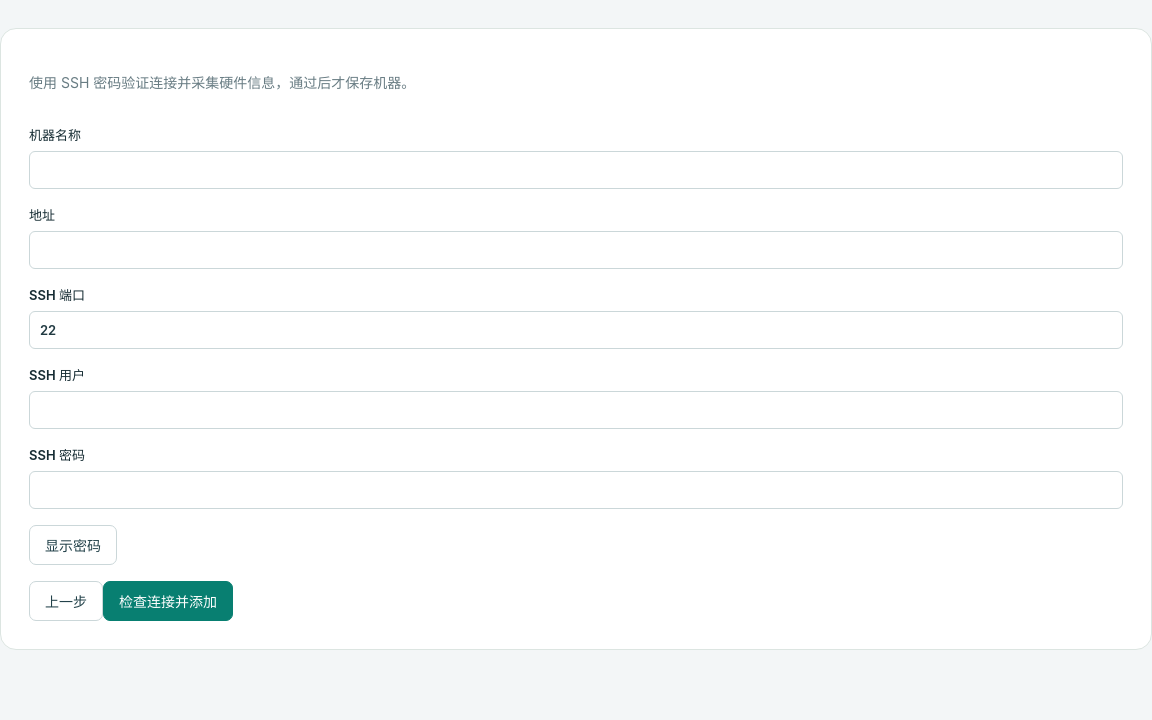
Test case: connection failure keeps nonsecret fields and clears password
The width and height of the screenshot is (1152, 720).
Type "node-1" into the field labelled "机器名称".
click(576, 170); type("node-1")  # box [29,151,1123,189]
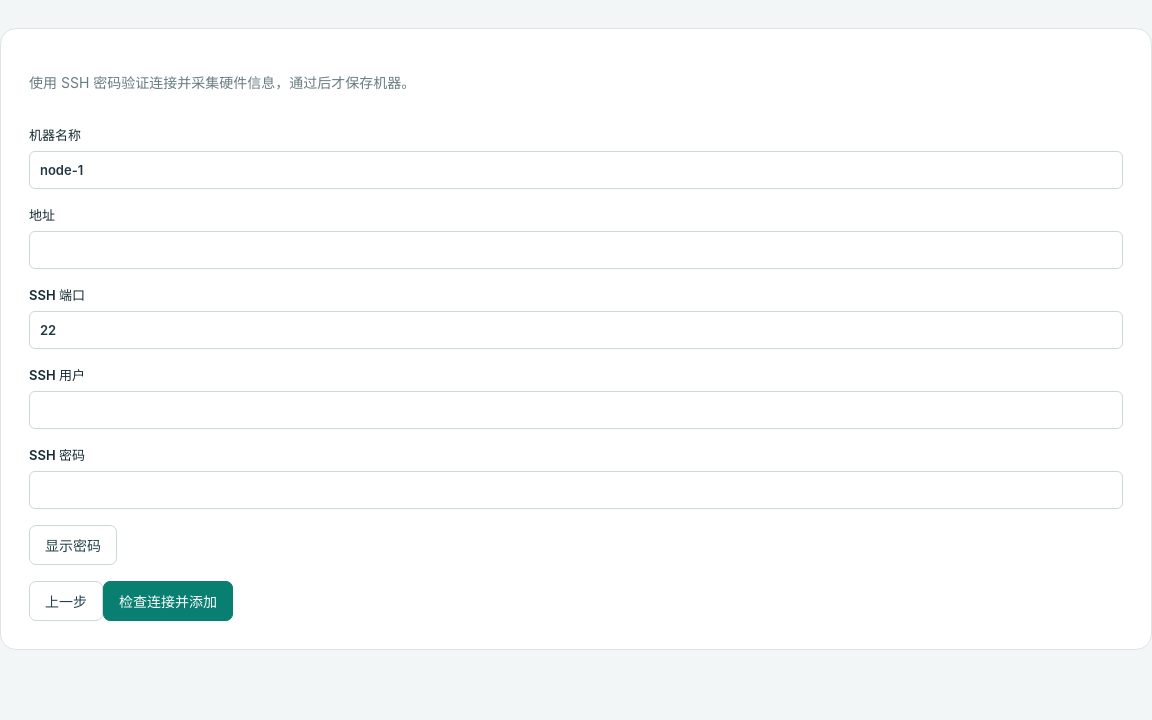
Type "10.0.0.1" into the field labelled "地址".
click(576, 250); type("10.0.0.1")  # box [29,231,1123,269]
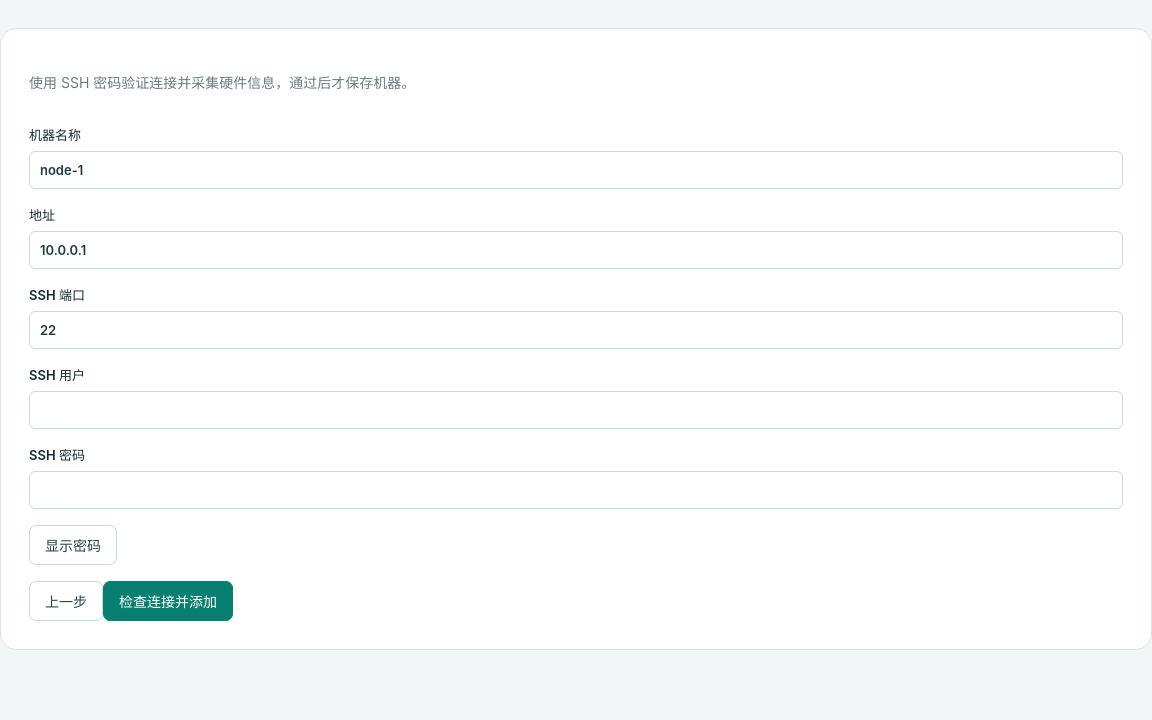
Type "jenkins" into the field labelled "SSH 用户".
click(576, 410); type("jenkins")  # box [29,391,1123,429]
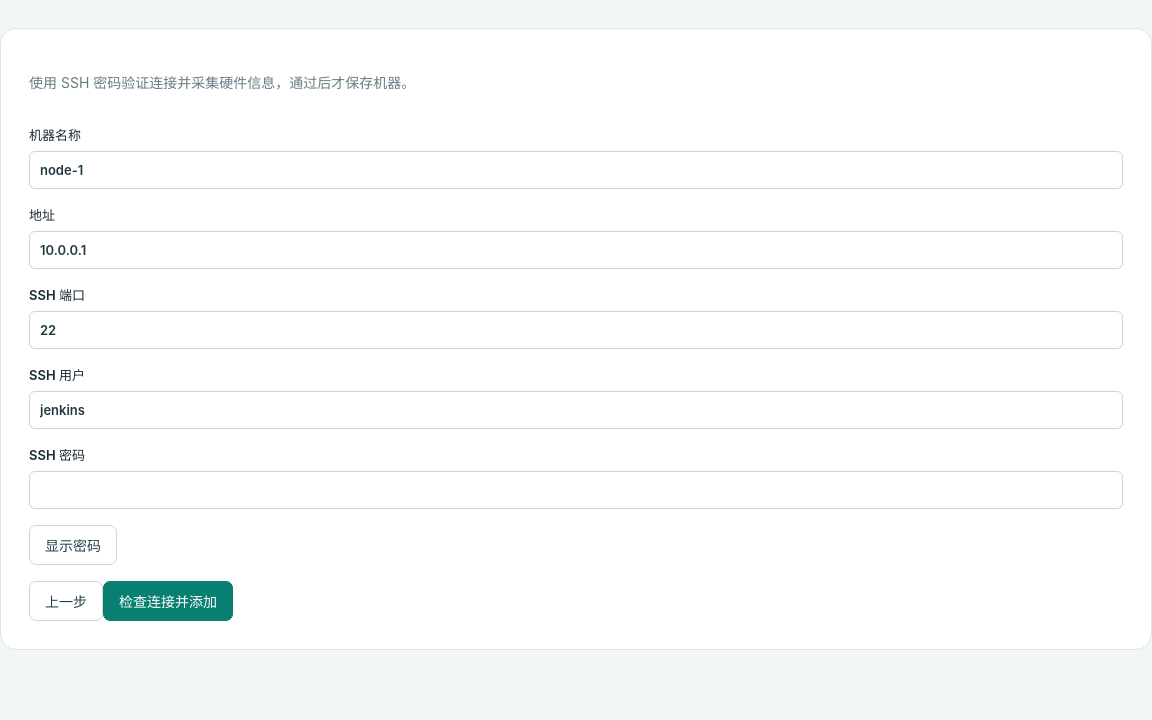
Type "  keep me  " into the password field labelled "SSH 密码".
click(576, 490); type("  keep me  ")  # box [29,471,1123,509]
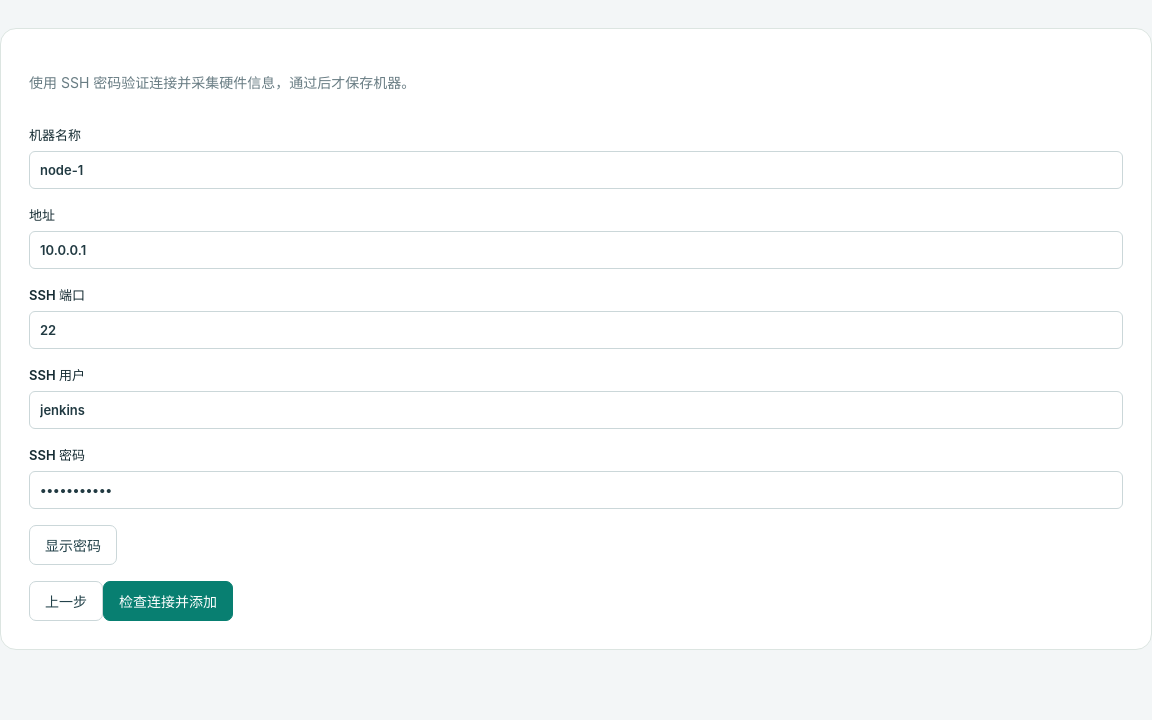
Click the button "检查连接并添加".
click(168, 601)  # box [103,581,233,621]
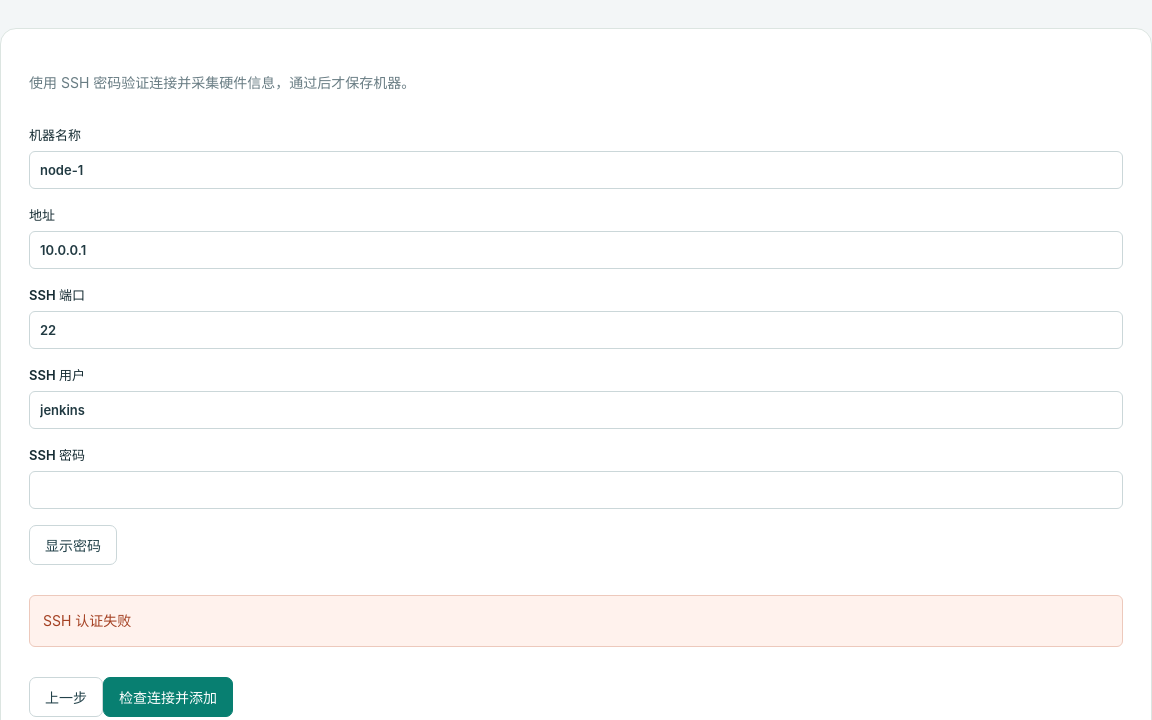
Check: the message reads "SSH 认证失败", box [43,612,131,629]
Check: the password field labelled "SSH 密码" is empty, box [29,471,1123,509]
